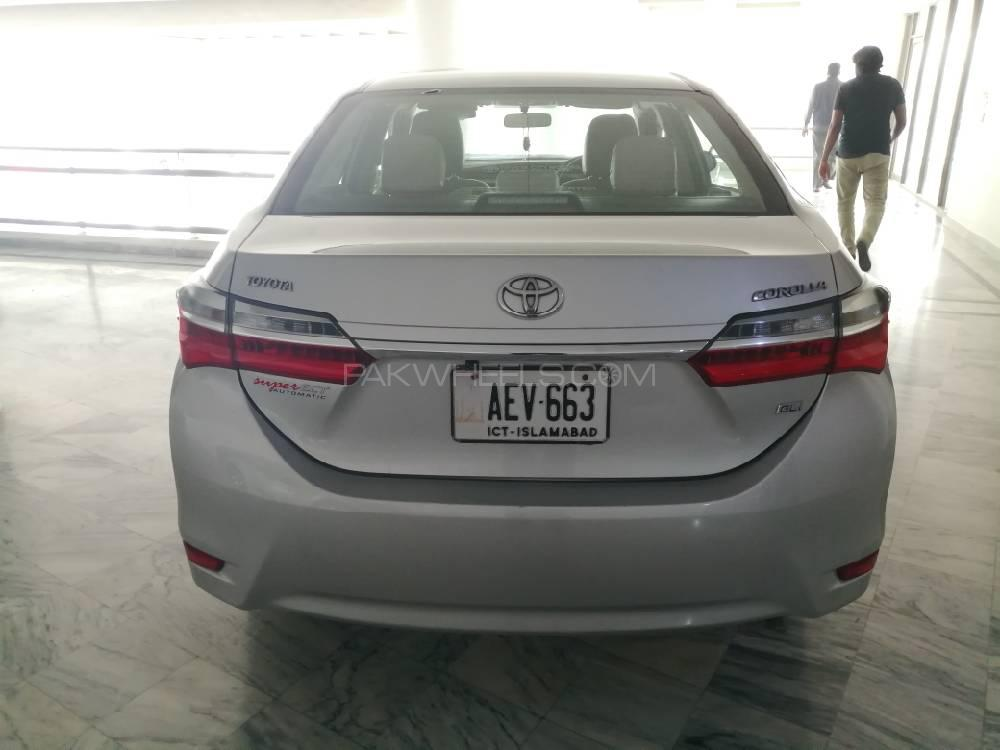License-Plate: (446, 361, 611, 446)
